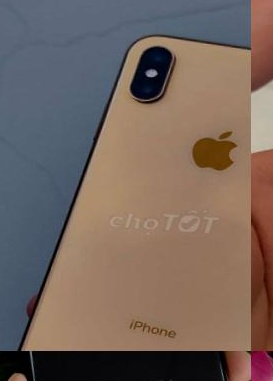scratch: (20, 355, 47, 379)
